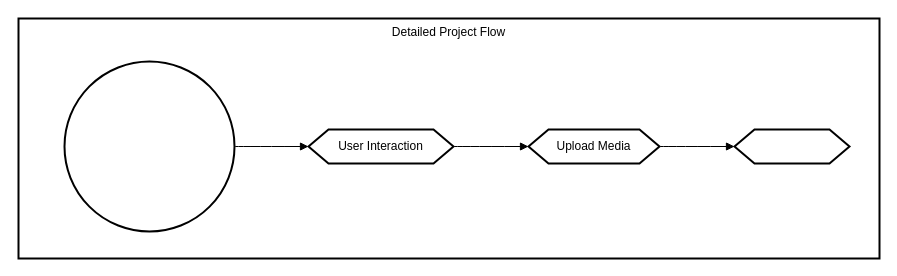
Image size: 897x276. Some labels were removed from this diagram. The shapes that lost their labels are listed below. From the top down, each one's box as (x1, y1, x2, y2) in pixels, then its label:
(63, 60, 235, 232): Frontend & Input Acquisition
(733, 128, 850, 164): Input Types
